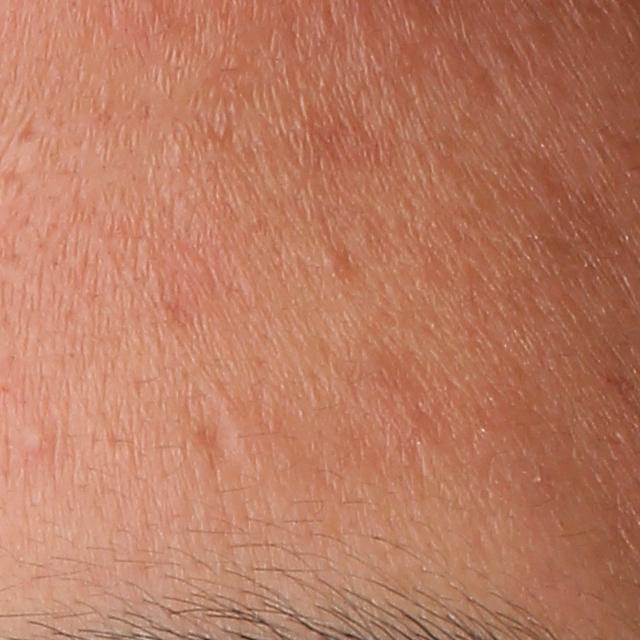atrophic_scar: (20, 111, 51, 142)
comedo: (19, 422, 56, 454), (321, 248, 346, 276)
